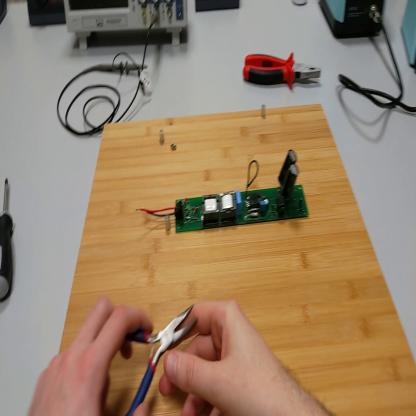hand: (161, 295, 287, 415), (31, 298, 156, 415)
high voltage board: (134, 151, 310, 237)
oscilloscope: (65, 3, 189, 54)
oscilloscope probe tip: (95, 62, 148, 78)
pliers: (121, 309, 194, 416), (239, 52, 324, 96)
screwdriver-: (2, 177, 19, 303)
socket: (27, 2, 67, 32), (3, 1, 8, 24)
welder base: (402, 3, 416, 72)
welder station: (318, 1, 387, 40)
working area: (59, 109, 416, 413)
